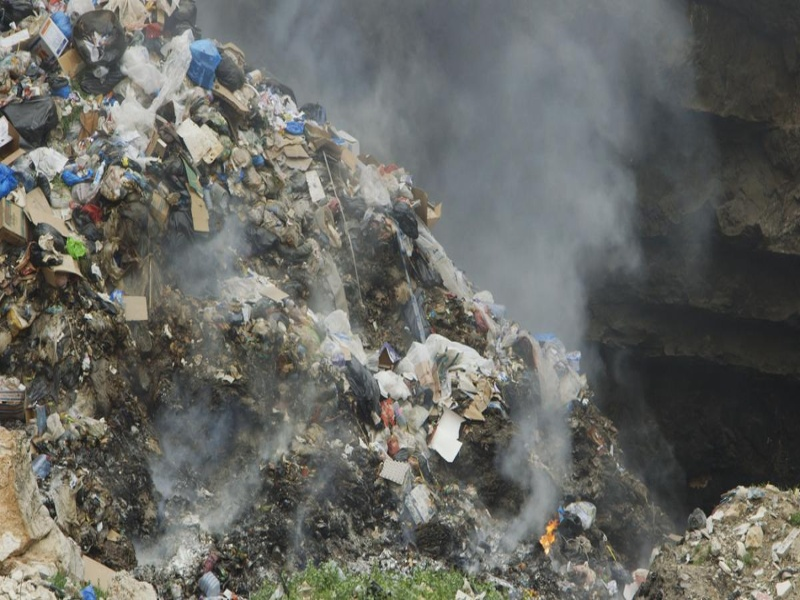smoke: (407, 1, 585, 327)
